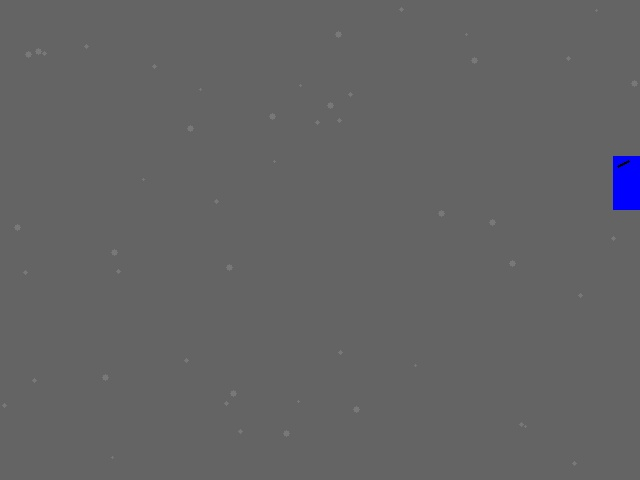motorcycle: (613, 156, 639, 209)
